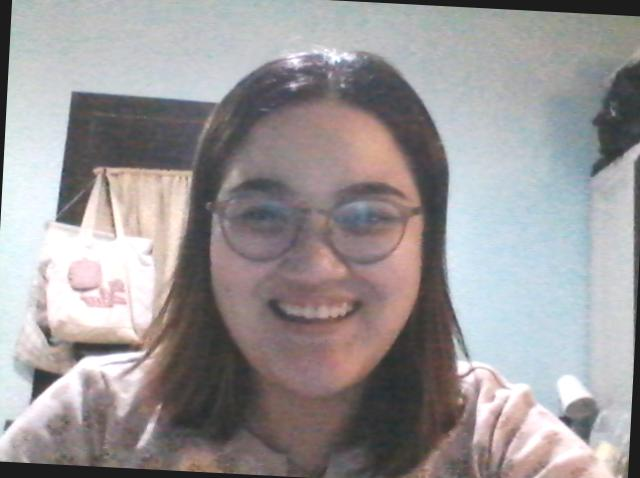senang: (193, 95, 436, 398)
